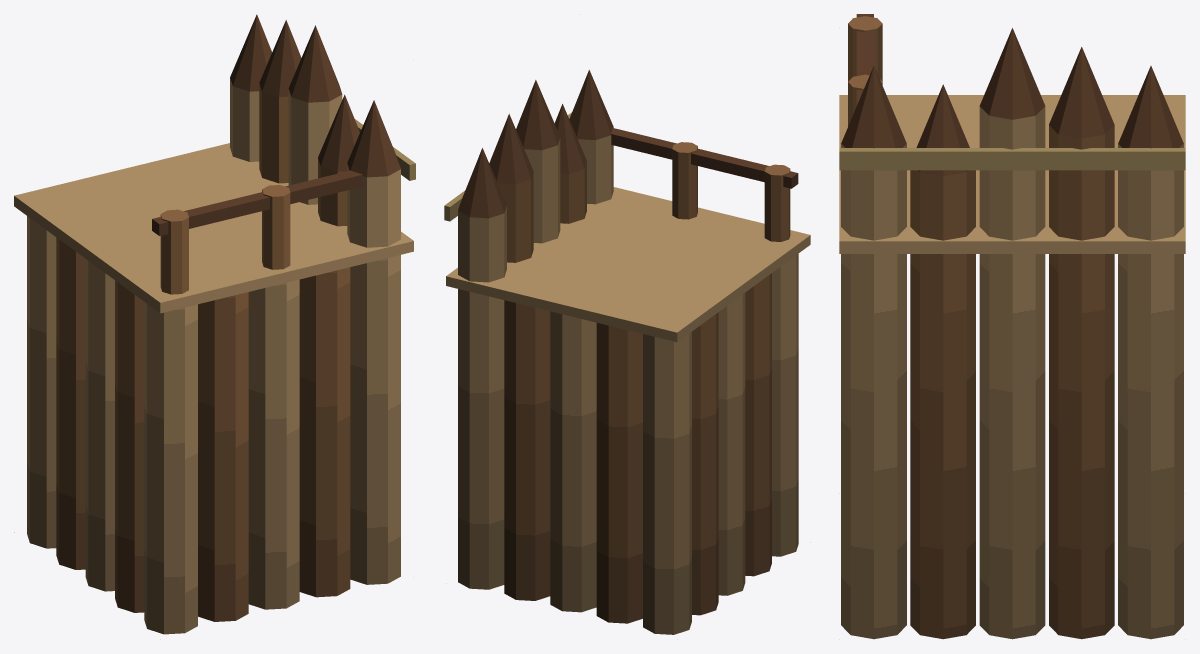
Rendered from perimeter_wall_wood_f9.glb.
3 views of the same model, side by side, from view 1: azimuth 30°, elevation 25°; view 2: azimuth 150°, elevation 25°; view 3: azimuth 270°, elevation 25° (orthographic). The views are drawn at different scales.
Bounding box in the file's own units: 2.01 × 3.9 × 2.
Materials: 1 (1 with a texture image).
